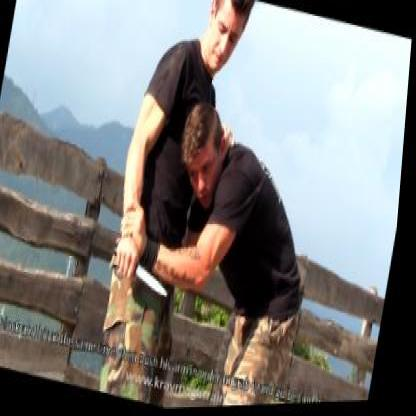knife: (109, 233, 182, 306)
